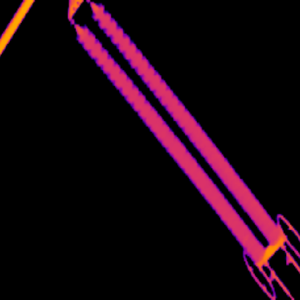insulator: (90, 1, 283, 246), (74, 21, 266, 264)
